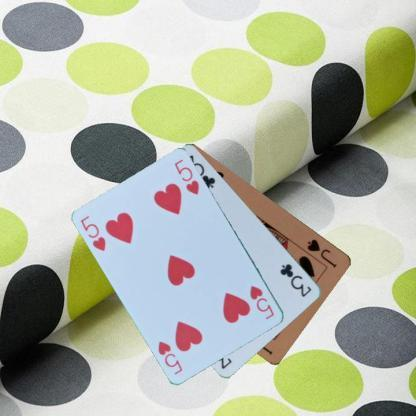3c: (277, 260, 313, 298)
5h: (247, 282, 276, 322), (78, 213, 107, 253)
Js: (304, 236, 338, 270)
